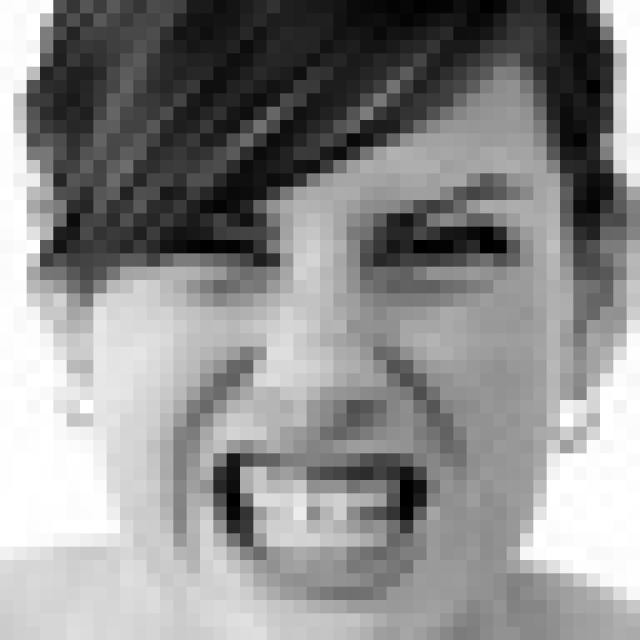angry: (143, 165, 544, 598)
